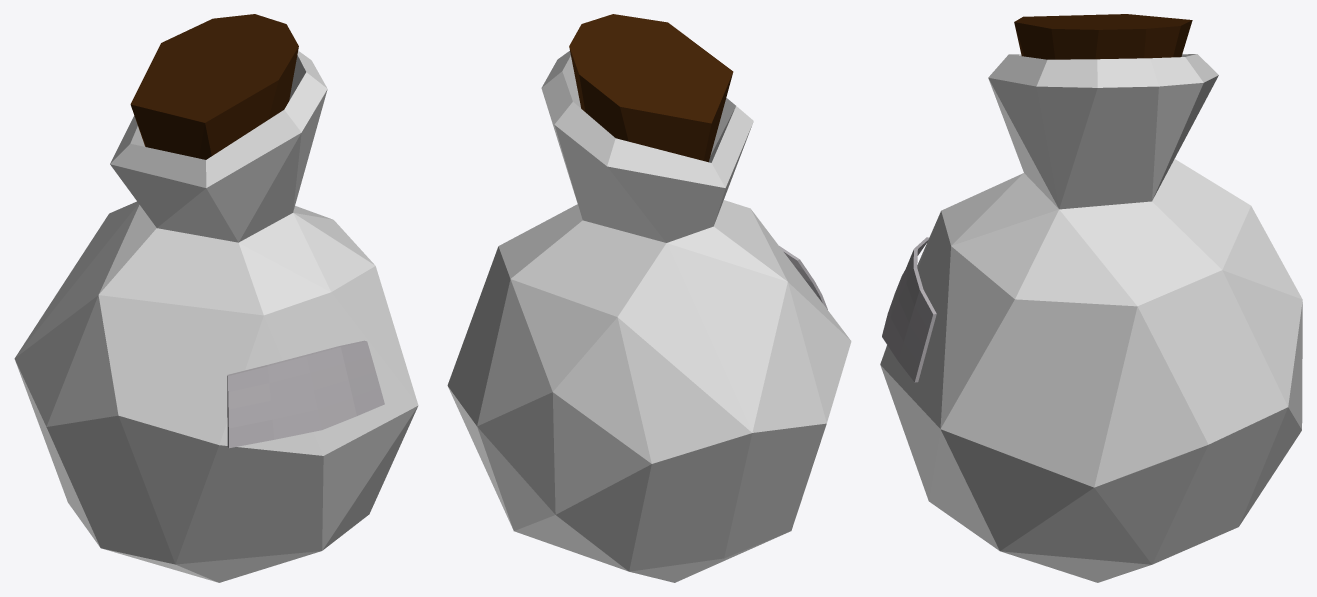
Rendered from bottle_static.fbx.
The picture shows the model from 3 angles, left to right: view 1: azimuth 30°, elevation 25°; view 2: azimuth 150°, elevation 25°; view 3: azimuth 270°, elevation 25°; orthographic projection. The views are drawn at different scales.
Visible parts, largest first — view 1: Bottle, Cork, Label; view 2: Bottle, Cork; view 3: Bottle, Cork, Label.
Part boxes in pixels (x1=…): Bottle: x1=14, y1=50, x2=418, y2=582; Cork: x1=130, y1=14, x2=298, y2=159; Label: x1=227, y1=340, x2=384, y2=448; Bottle: x1=447, y1=51, x2=851, y2=582; Cork: x1=569, y1=14, x2=733, y2=162; Bottle: x1=880, y1=54, x2=1302, y2=582; Cork: x1=1014, y1=14, x2=1192, y2=59; Label: x1=882, y1=237, x2=936, y2=382.
Bounding box in the file's own units: 204 × 285 × 197.
